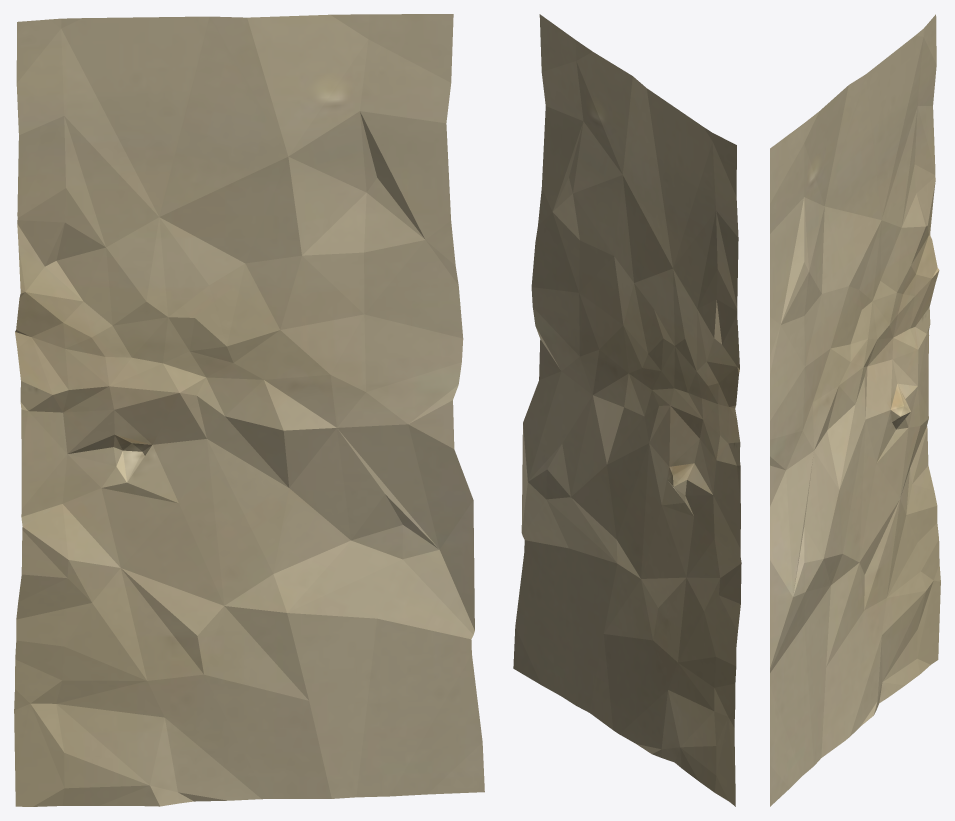
The picture shows the model from 3 angles, left to right: view 1: azimuth 30°, elevation 25°; view 2: azimuth 150°, elevation 25°; view 3: azimuth 270°, elevation 25°; orthographic projection. The views are drawn at different scales.
Size of the model in its own units: 0.8181 by 1.67 by 0.4017.
Materials: 2 (2 with a texture image).
